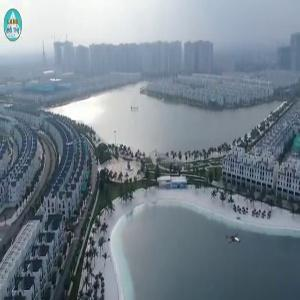drone: (216, 223, 252, 259)
